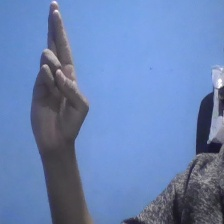R: (23, 1, 92, 156)
